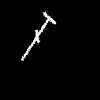double_crochet: (22, 12, 55, 59)
